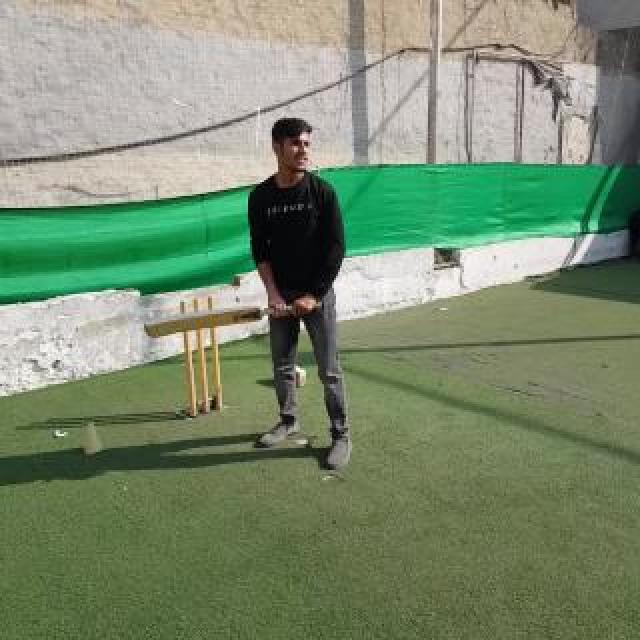bat: (144, 300, 322, 338)
